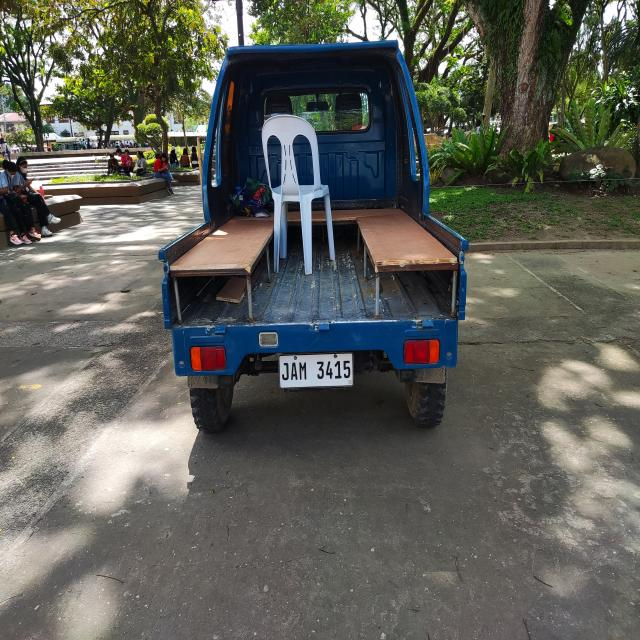plate: (278, 351, 354, 390)
